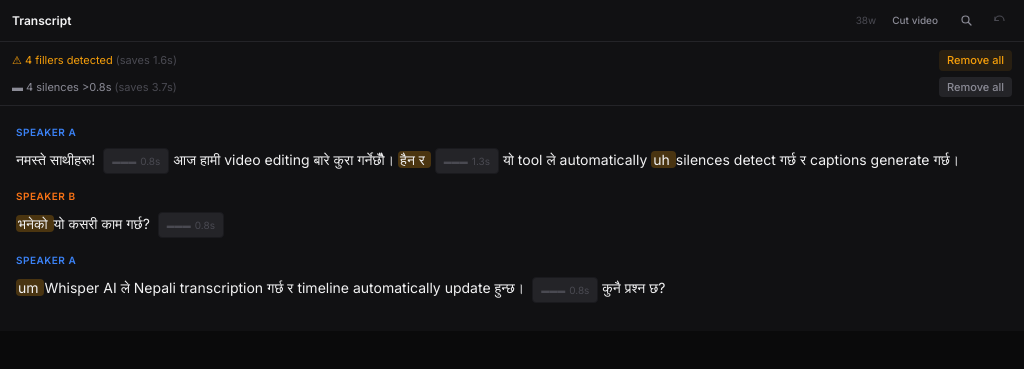
Test: TranscriptEditor — search › opens search bar when search button is clicked
Click the button with test id "open-search": (966, 20) [954, 8, 979, 33]
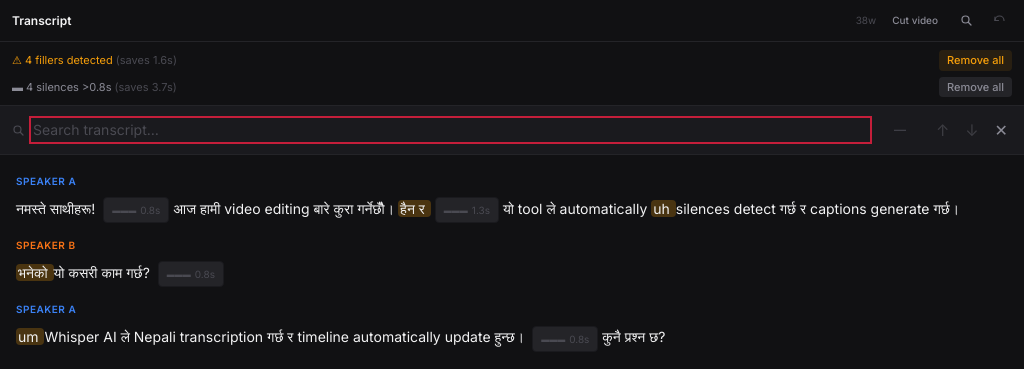
Check: the element with test id "transcript-search" is shown, box [0, 106, 1023, 155]
